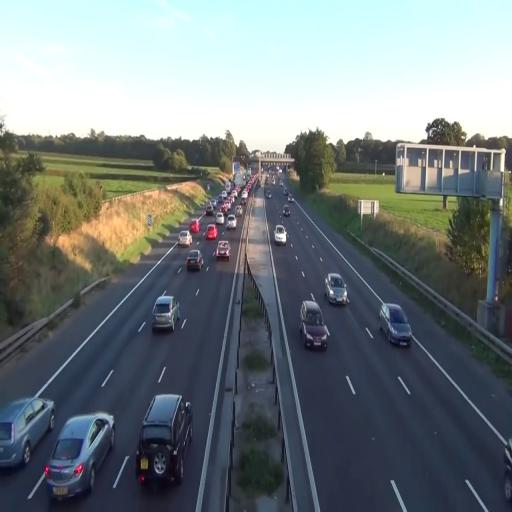vehicle: (44, 412, 116, 500), (136, 391, 194, 484), (0, 395, 56, 470), (378, 302, 412, 348), (299, 300, 329, 350), (152, 294, 180, 332), (324, 272, 348, 306), (186, 250, 203, 274), (215, 240, 231, 260), (274, 224, 288, 245), (176, 230, 192, 248), (205, 224, 218, 240)
